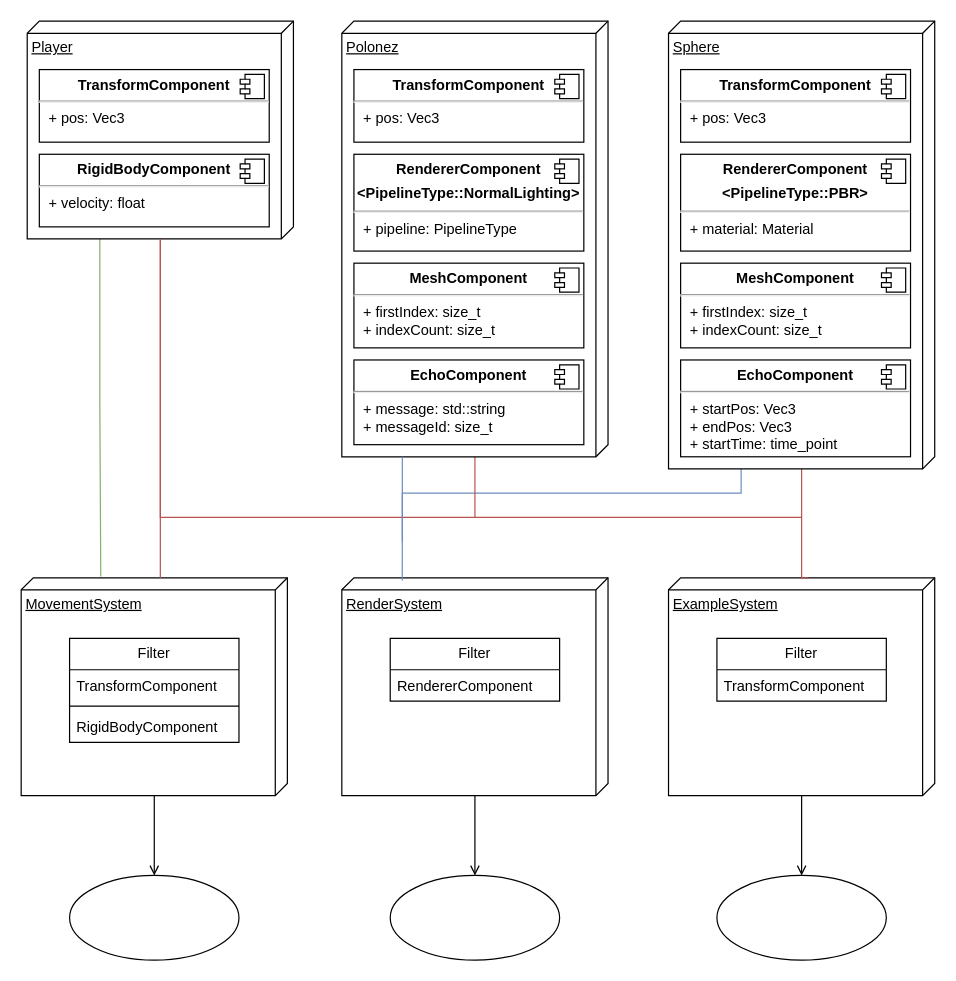
The diagram is 956 pixels wide and 981 high, and some of its shapes have lost their labels. Each missing label, with the centre of its shape:
"Example Job" belongs at (x=801, y=917).
"Movement Gameplay" belongs at (x=153, y=917).
"Rendering" belongs at (x=474, y=917).
